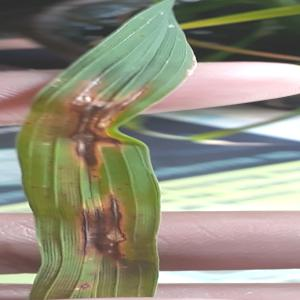1 RiceBlast: (64, 184, 133, 262), (66, 77, 114, 131), (60, 124, 106, 174)
